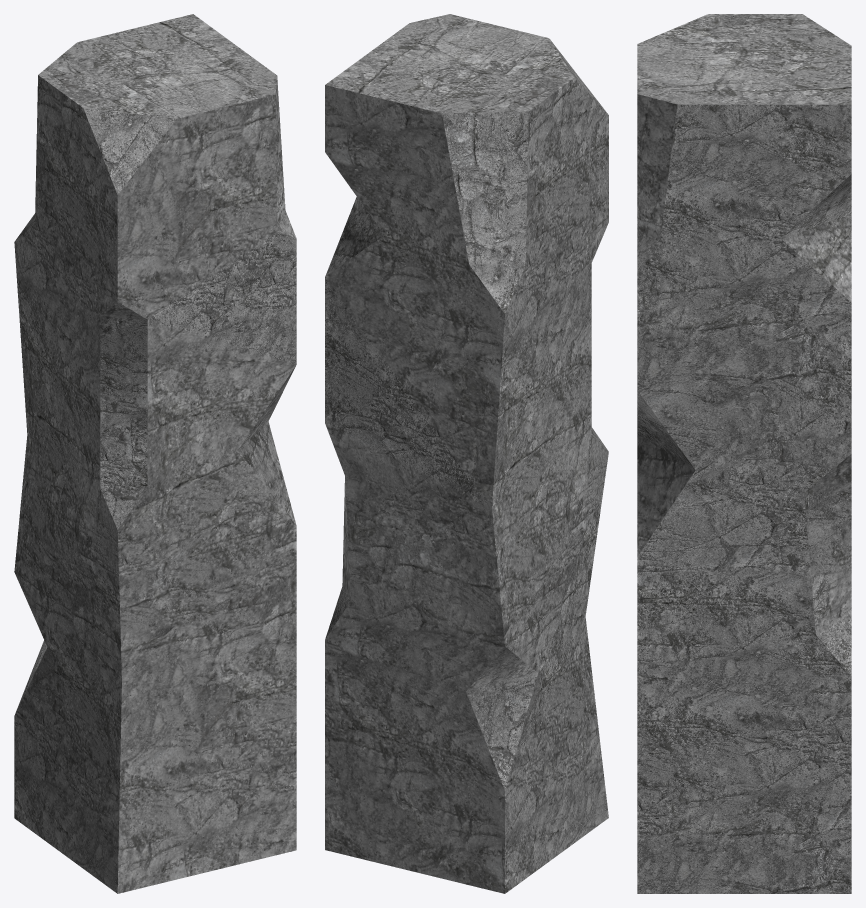
File: materials_3_pillar_8.fbx
3 views of the same model, side by side, from view 1: azimuth 30°, elevation 25°; view 2: azimuth 150°, elevation 25°; view 3: azimuth 270°, elevation 25° (orthographic). The views are drawn at different scales.
Parts seen in each view (by area): view 1: materials_3_pillar_8; view 2: materials_3_pillar_8; view 3: materials_3_pillar_8.
Part boxes in pixels (x1,y1,x2,y2): materials_3_pillar_8: (14,14,296,893); materials_3_pillar_8: (325,14,608,893); materials_3_pillar_8: (637,14,851,893).
Bounding box in the file's own units: 69.21 × 281 × 69.21.
